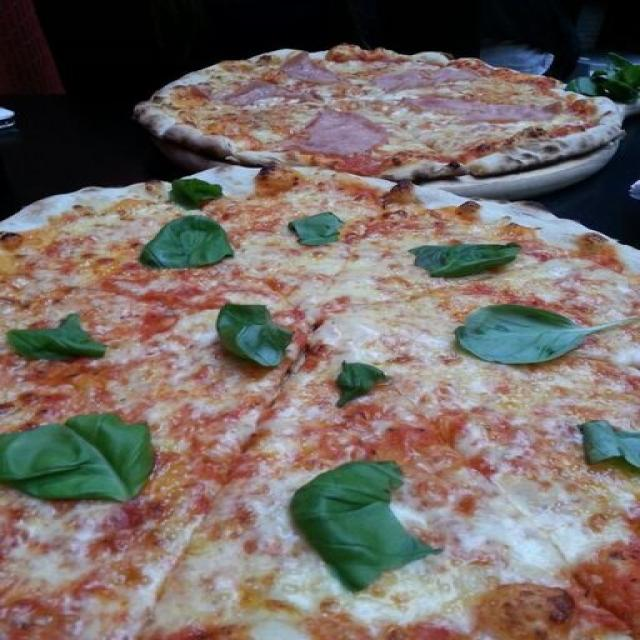Basil: (296, 461, 442, 590), (0, 414, 160, 504), (460, 300, 618, 362), (143, 217, 233, 268), (222, 299, 284, 373), (15, 320, 104, 364), (415, 240, 513, 274), (584, 420, 639, 470), (330, 356, 383, 404), (290, 208, 340, 246), (340, 361, 380, 397), (182, 181, 218, 206)
Ham: (407, 94, 558, 120), (300, 109, 383, 156), (381, 64, 474, 89), (196, 80, 302, 100), (287, 55, 338, 85)
Pizza: (0, 166, 640, 640), (150, 44, 623, 179)
